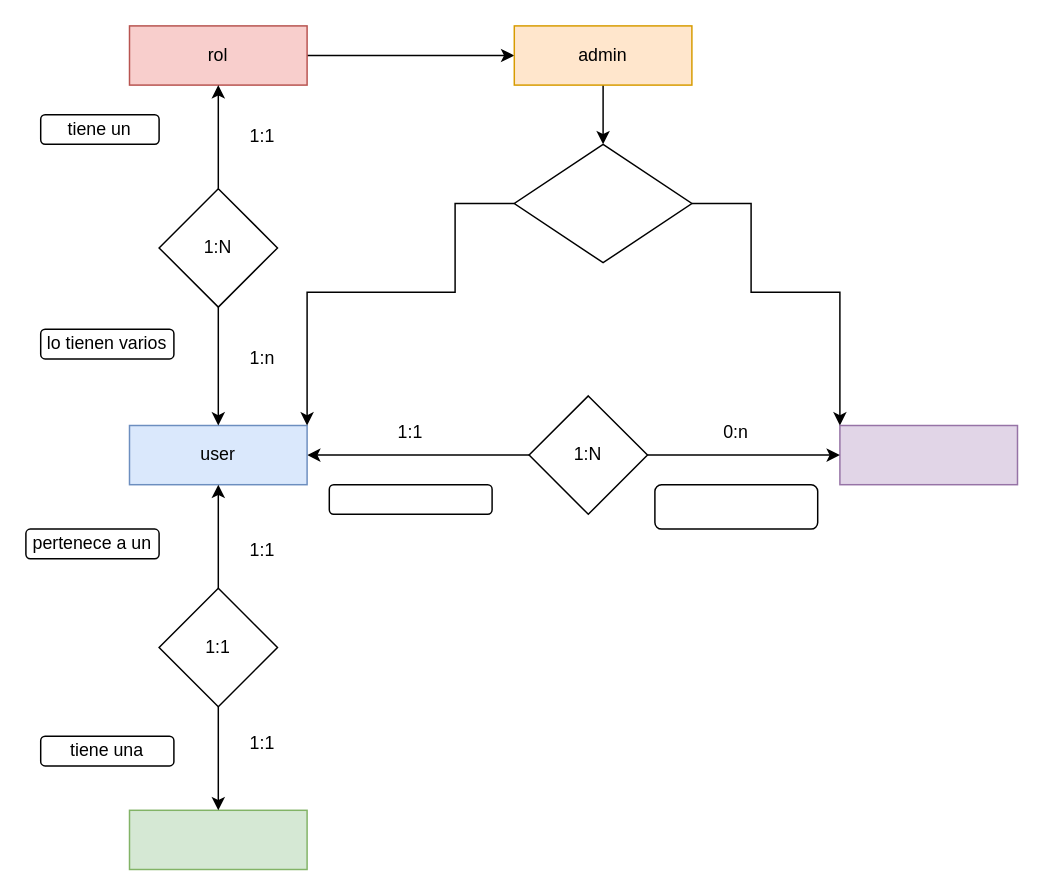
Some shapes in this 1043 by 895 pixel diagram are drawn without their labels. The shapes that lost their labels are listed below. From the top down, each one's box as (x1, y1, x2, y2) in pixels, then its label:
(513, 143, 692, 263): borrar crear/validar
(838, 424, 1018, 485): route
(328, 483, 492, 514): creadas por un
(653, 483, 818, 529): pueden crear y editar sus
(128, 809, 307, 870): u _image
